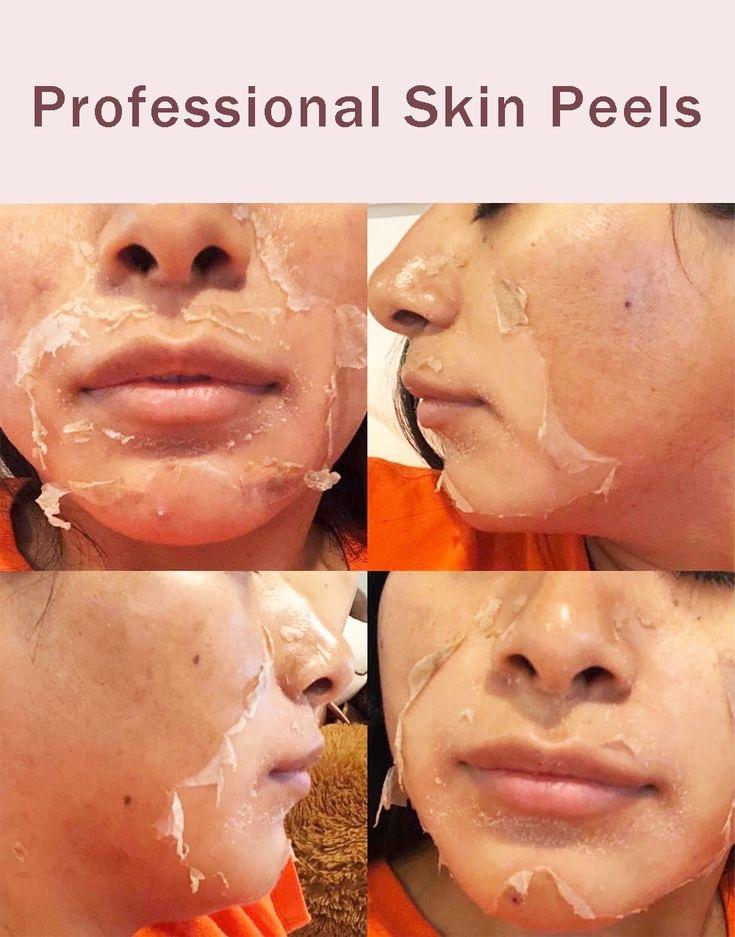Dry-Skin: (545, 237, 708, 422), (155, 638, 270, 878), (498, 302, 635, 468), (478, 812, 622, 937), (63, 660, 165, 820), (272, 213, 352, 385), (138, 445, 250, 540), (618, 602, 718, 708), (42, 248, 88, 473), (423, 605, 518, 712), (403, 700, 465, 852)
